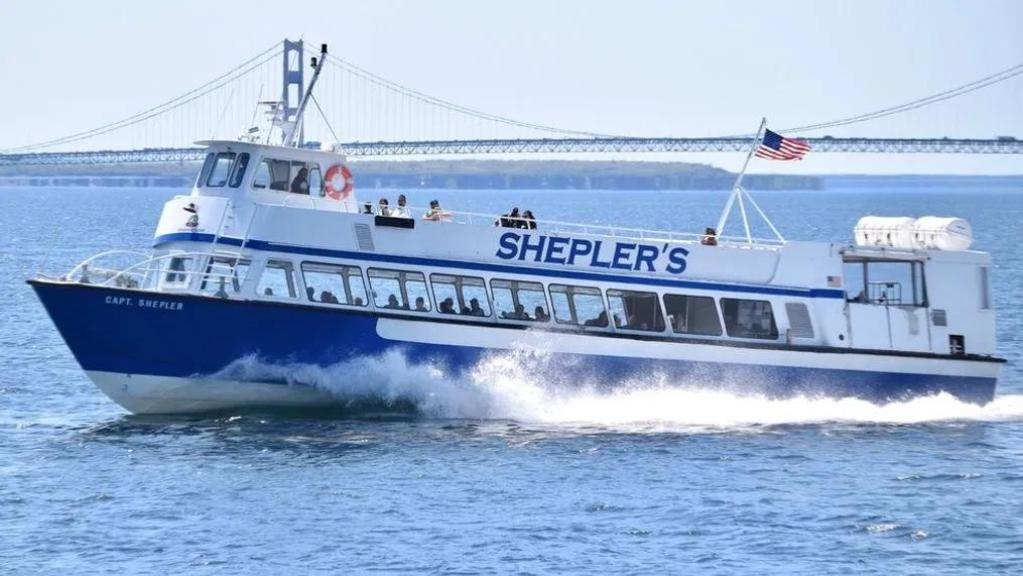PassengerShip: (22, 43, 1012, 443)
